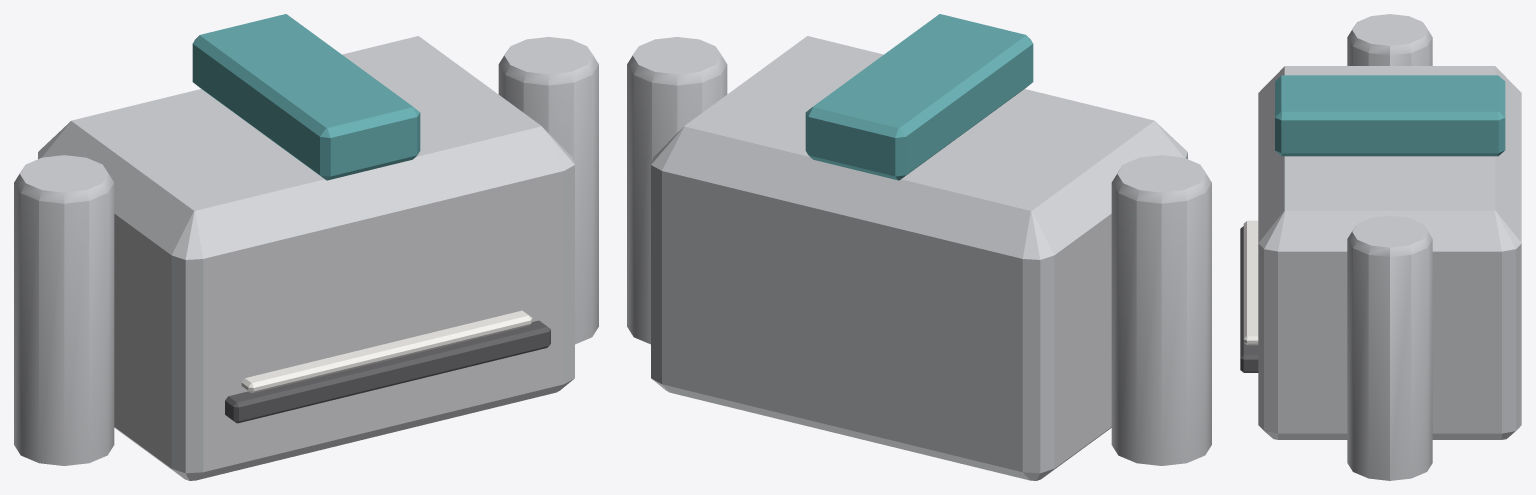
Rendered from fast-food-and-drive-thru-napkin-and-straw-dispenser-a7fe57f7__16114.glb.
3 views of the same model, side by side, from view 1: azimuth 30°, elevation 25°; view 2: azimuth 150°, elevation 25°; view 3: azimuth 270°, elevation 25° (orthographic). The views are drawn at different scales.
Visible parts, largest first — view 1: napkin-and-straw-dispenser; view 2: napkin-and-straw-dispenser; view 3: napkin-and-straw-dispenser.
Part boxes in pixels (x1,y1,x2,y2): napkin-and-straw-dispenser: (14,14,598,480); napkin-and-straw-dispenser: (627,14,1211,480); napkin-and-straw-dispenser: (1240,14,1521,480).
Bounding box in the file's own units: 0.342 × 0.18 × 0.171.
